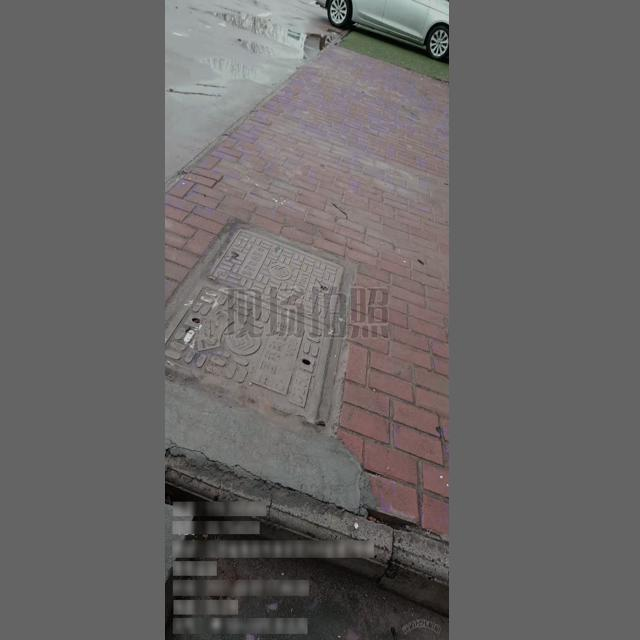good: (166, 224, 350, 427)
